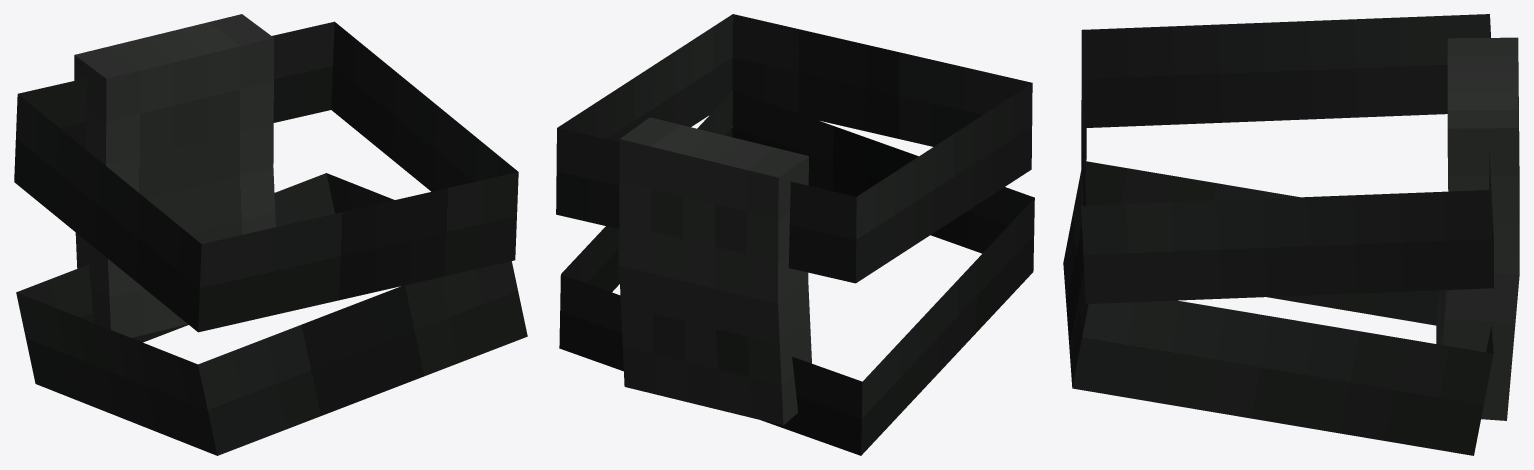
File: knee_pad.obj
3 renders of one model, left to right at view 1: azimuth 30°, elevation 25°; view 2: azimuth 150°, elevation 25°; view 3: azimuth 270°, elevation 25°, orthographic. The views are drawn at different scales.
Visible parts, largest first — view 1: knee_pad; view 2: knee_pad; view 3: knee_pad.
Part boxes in pixels (x1,y1,x2,y2): knee_pad: (14, 14, 527, 455); knee_pad: (556, 14, 1034, 455); knee_pad: (1063, 14, 1519, 455).
Size of the model in its own units: 0.2724 by 0.2372 by 0.3002.
